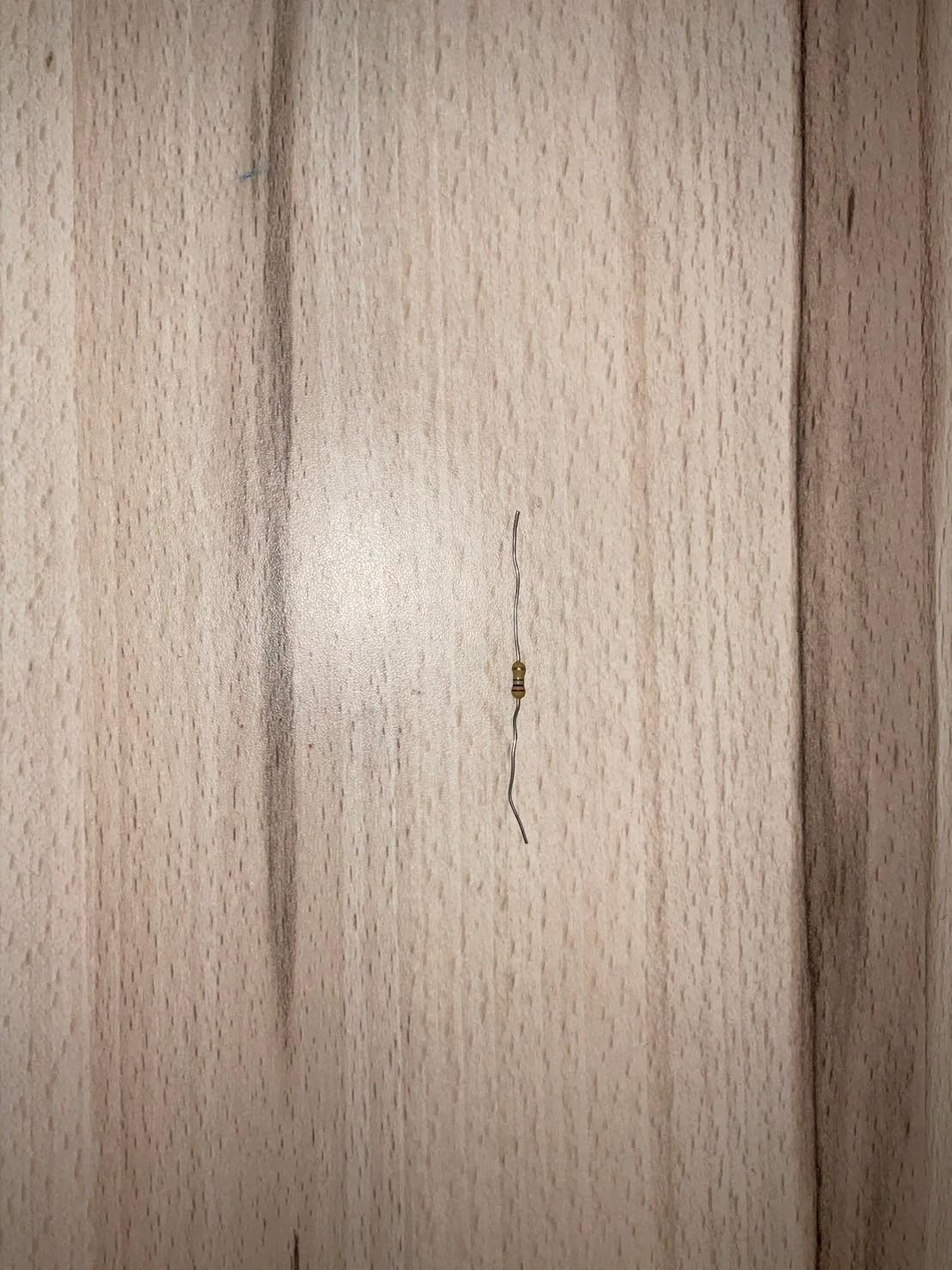resistor: (511, 660, 527, 700)
